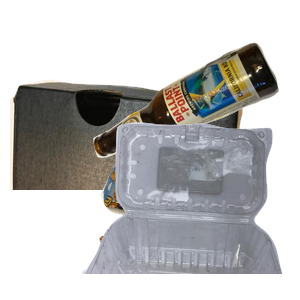cardboard: (10, 77, 245, 257)
glass: (91, 40, 300, 190)
plastic: (80, 120, 300, 300)
trash: (97, 151, 283, 300)
